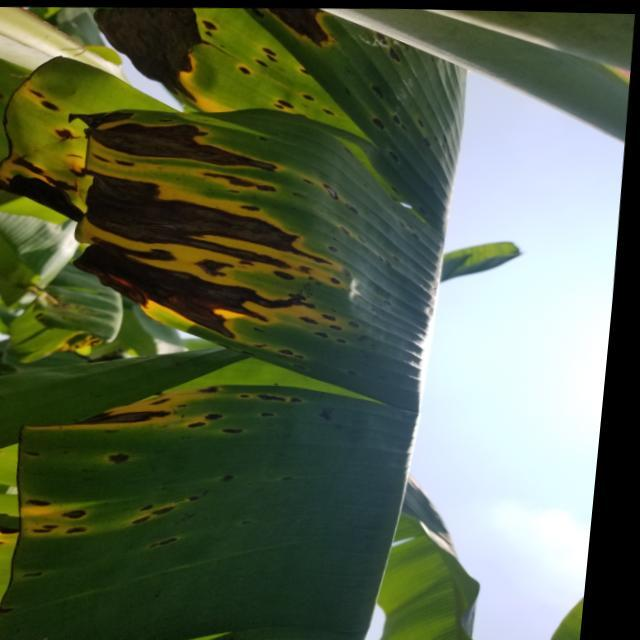Early_rust: (0, 2, 466, 640)
